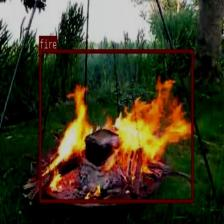fire: (39, 49, 193, 202)
